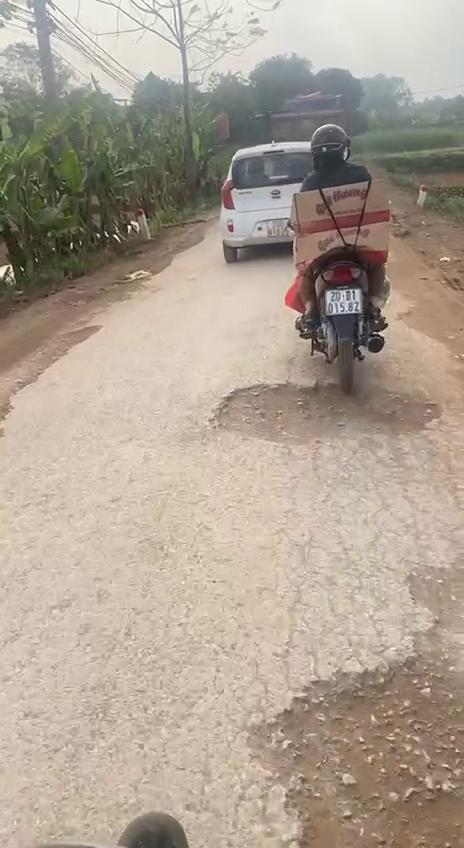pothole: (219, 557, 464, 848), (214, 379, 447, 451), (0, 321, 106, 418)
